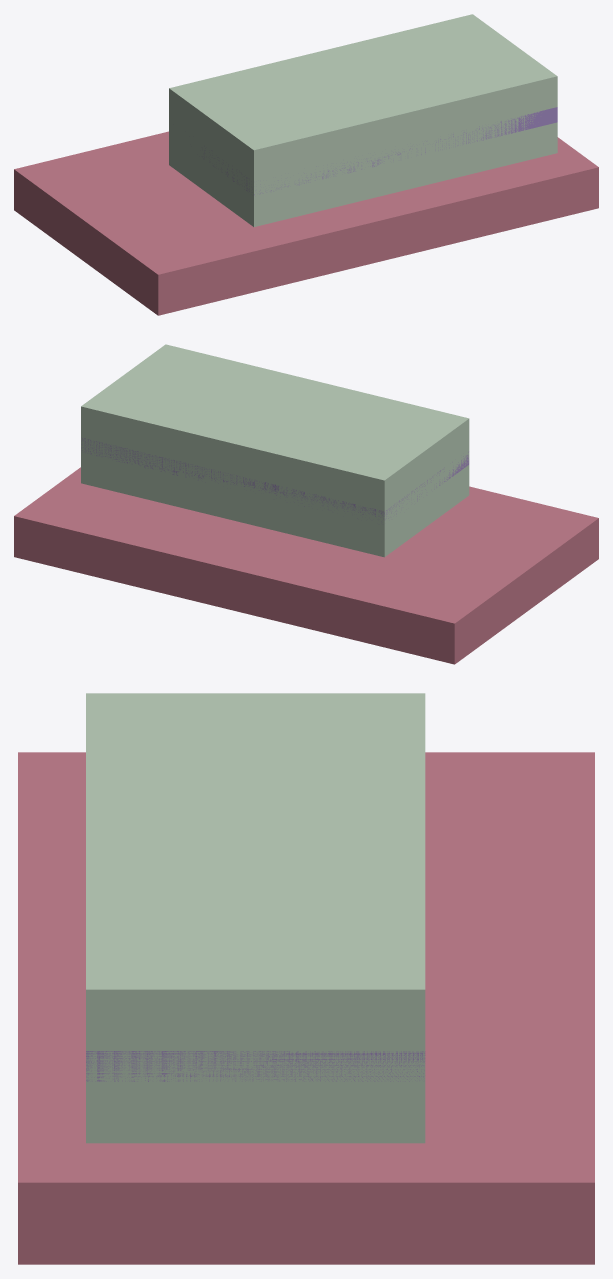
File: 199509_pred.glb
The picture shows the model from 3 angles, top to bottom: view 1: azimuth 30°, elevation 25°; view 2: azimuth 150°, elevation 25°; view 3: azimuth 270°, elevation 25°; orthographic projection. The views are drawn at different scales.
Visible parts, largest first — view 1: world; view 2: world; view 3: world.
Boxes of the visible parts, x1=… form: world: x1=14, y1=14, x2=598, y2=315; world: x1=14, y1=344, x2=598, y2=664; world: x1=18, y1=693, x2=594, y2=1264.
Size of the model in its own units: 9 by 2.45 by 5.1.
